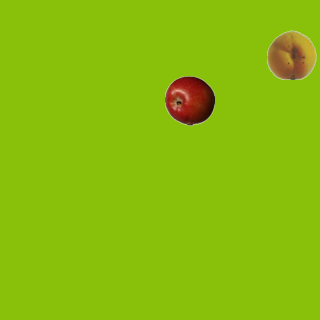Apple Braeburn: (164, 75, 214, 125)
Peach 2: (266, 29, 316, 79)
